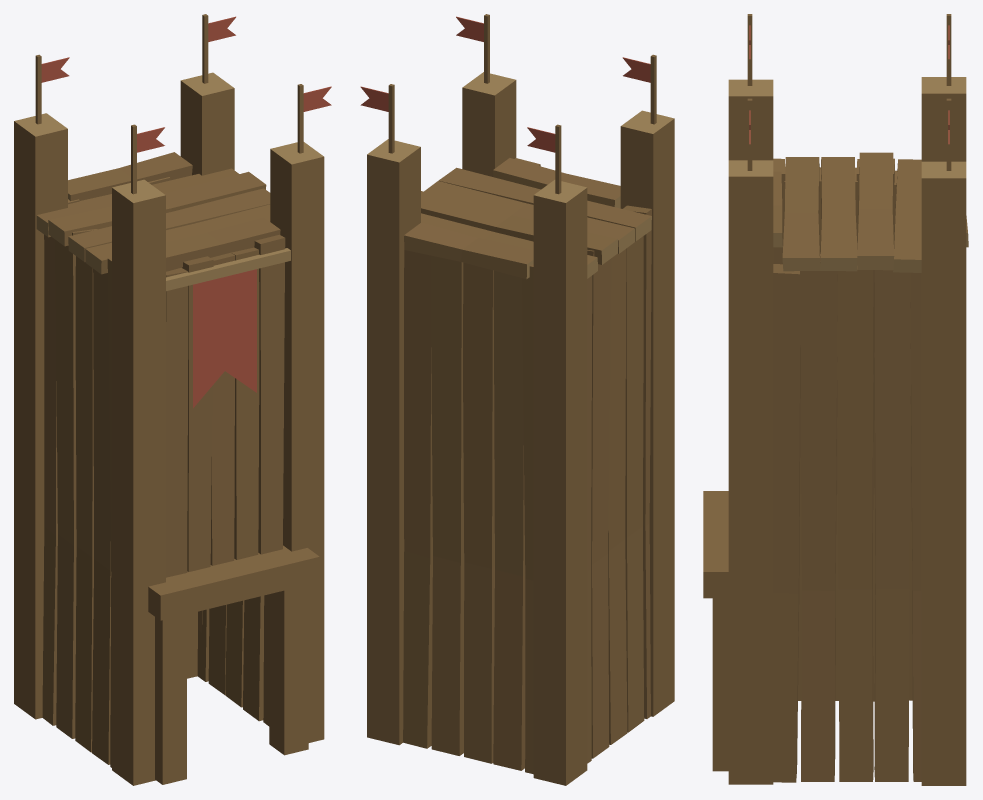
The model's file is f2J0aSLVi4.glb.
3 views of the same model, side by side, from view 1: azimuth 30°, elevation 25°; view 2: azimuth 150°, elevation 25°; view 3: azimuth 270°, elevation 25° (orthographic). The views are drawn at different scales.
Parts seen in each view (by area): view 1: WatchTower_FirstAge_Level2; view 2: WatchTower_FirstAge_Level2; view 3: WatchTower_FirstAge_Level2.
Boxes of the visible parts, x1,y1,x2,y2 form: WatchTower_FirstAge_Level2: [14, 14, 331, 785]; WatchTower_FirstAge_Level2: [360, 14, 674, 785]; WatchTower_FirstAge_Level2: [703, 14, 968, 785].
Size of the model in its own units: 0.505 by 1.46 by 0.5192.
